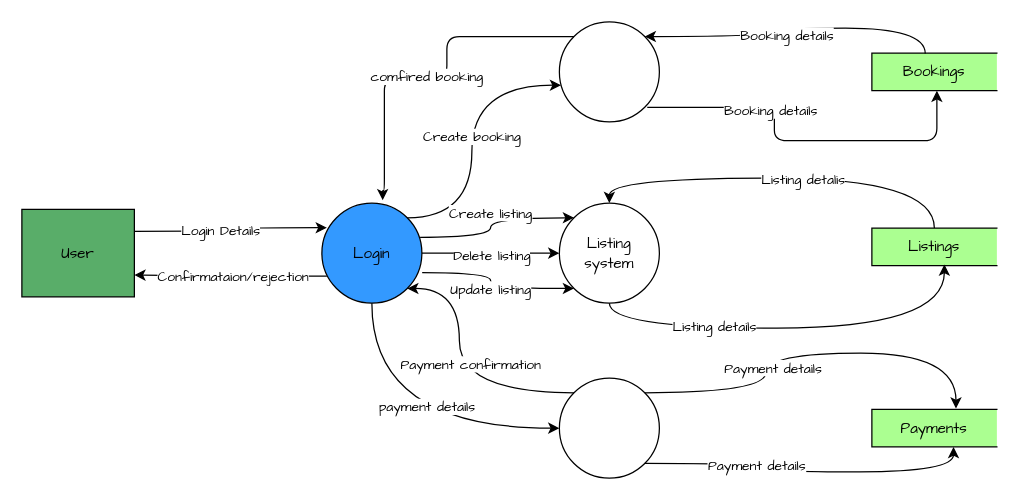
The diagram is 1019 pixels wide and 500 high, and some of its shapes have lost their labels. Each missing label, with the centre of its shape:
Booking system: [608,71]
Payment system: [608,427]
